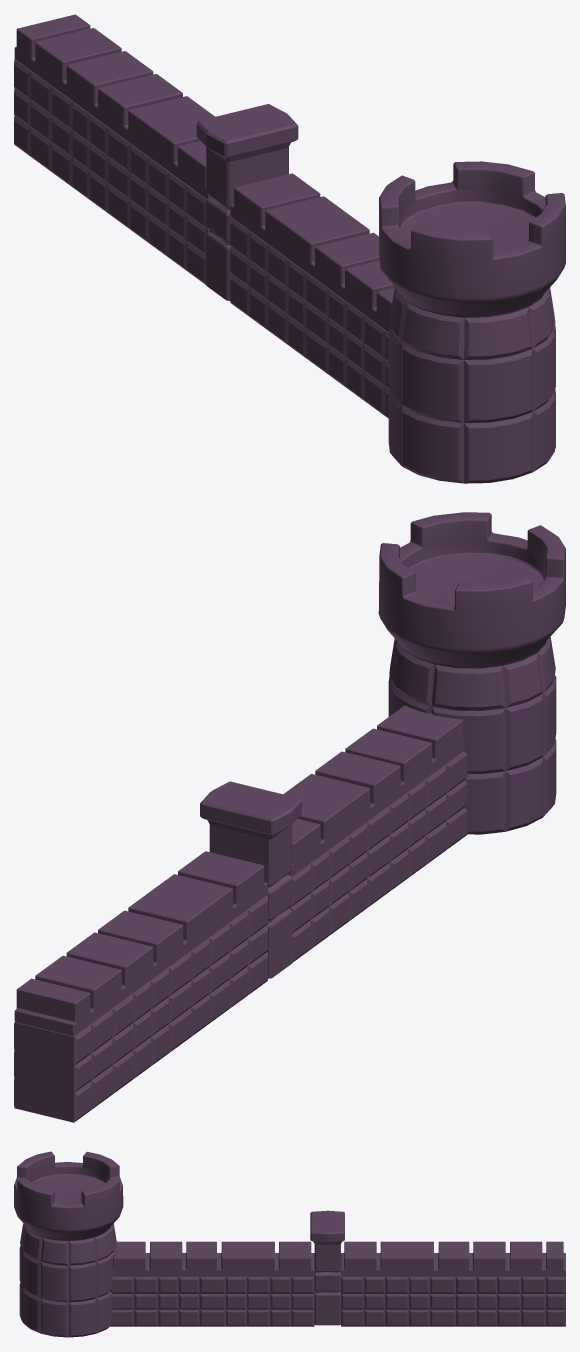
Rendered from Boundary Wall.fbx.
3 views of the same model, one above another, from view 1: azimuth 30°, elevation 25°; view 2: azimuth 150°, elevation 25°; view 3: azimuth 270°, elevation 25° (orthographic). The views are drawn at different scales.
Visible parts, largest first — view 1: boundary_wall; view 2: boundary_wall; view 3: boundary_wall.
Part boxes in pixels (left/top/right/bottom): boundary_wall: left=14, top=14, right=565, bottom=483; boundary_wall: left=14, top=512, right=565, bottom=1122; boundary_wall: left=14, top=1151, right=565, bottom=1337.
Size of the model in its own units: 42.14 by 61.98 by 213.
